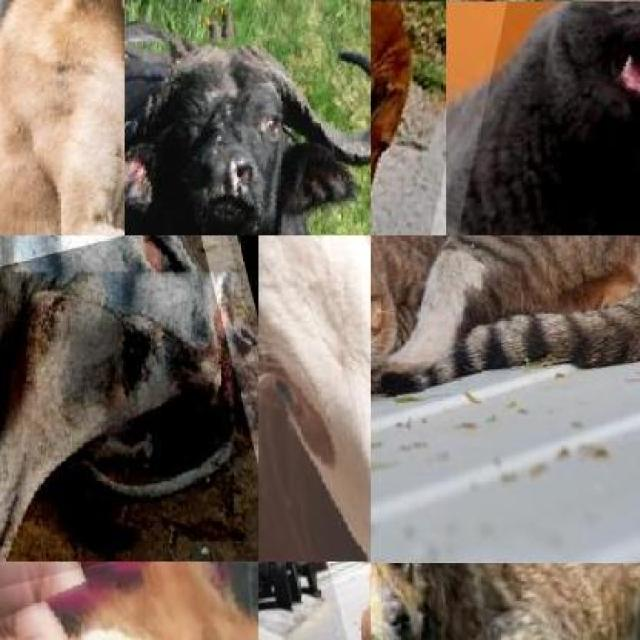buffalo: (124, 0, 370, 235)
cat: (371, 235, 640, 443), (447, 1, 640, 235)
cow: (0, 235, 258, 561), (258, 236, 371, 562)
dog: (0, 0, 124, 235), (371, 563, 640, 640), (371, 2, 446, 235)
injured: (0, 235, 258, 561)
